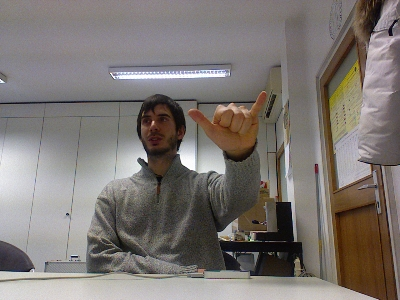六六六: (185, 89, 268, 155)
